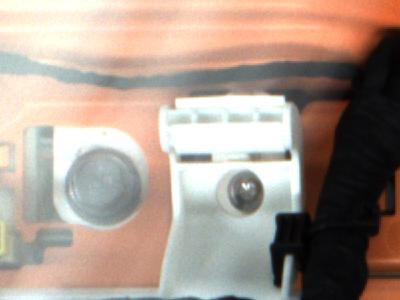nut_b: (63, 142, 143, 228)
